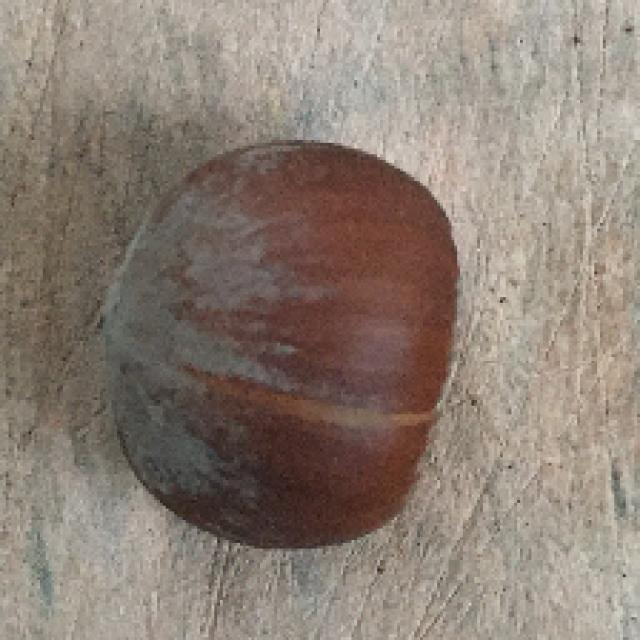qualityHazelnut: (91, 128, 475, 554)
